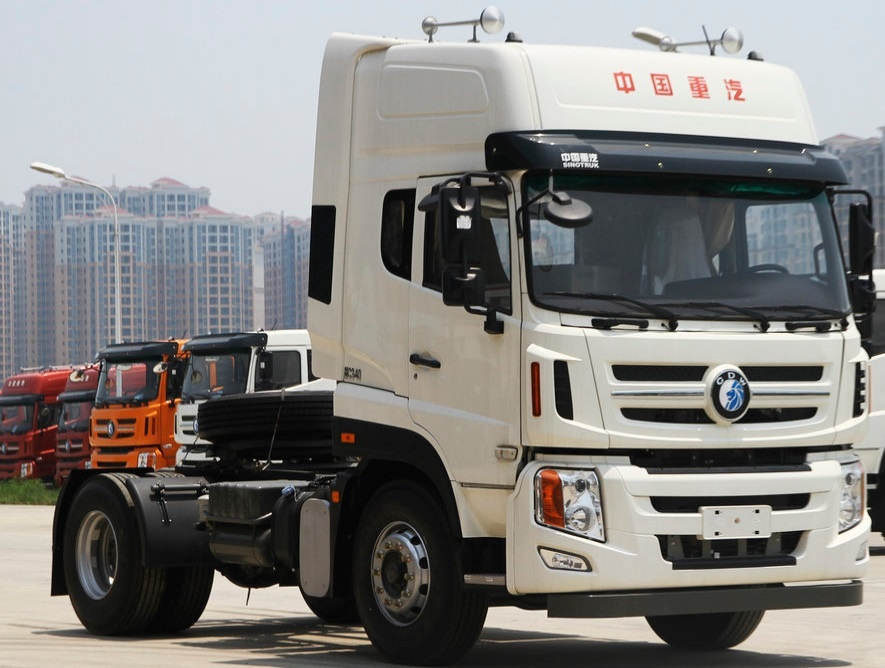heavy truck: (77, 55, 871, 655)
